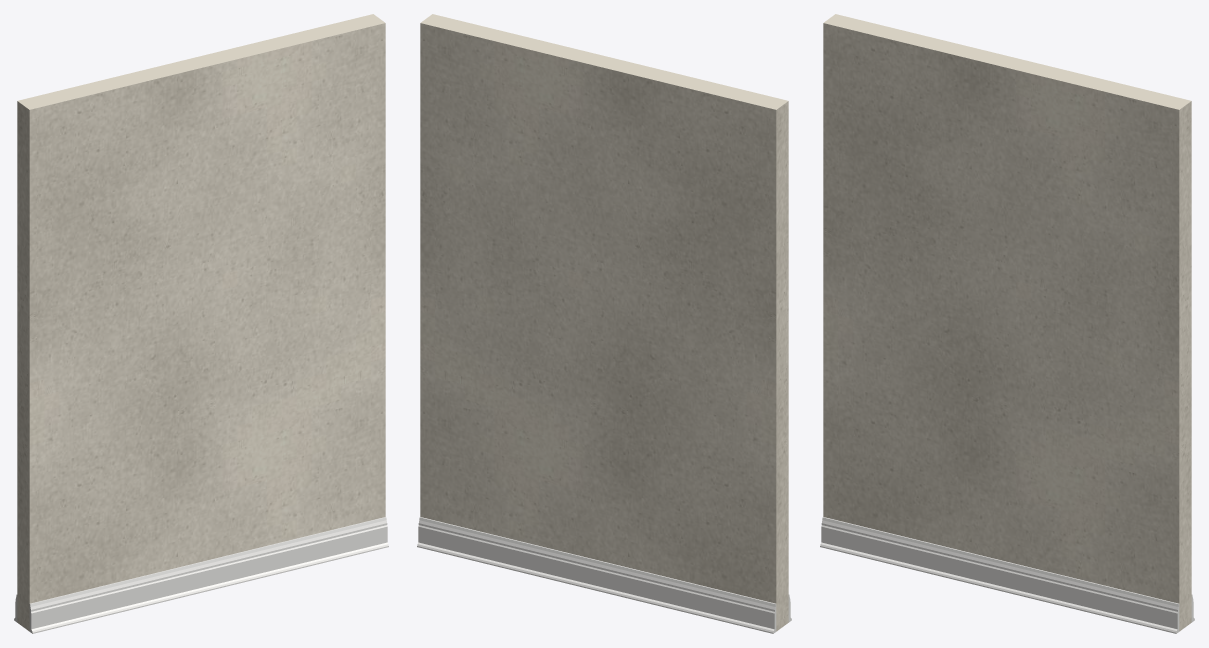
The model's file is interior_wall_plain.glb.
3 views of the same model, side by side, from view 1: azimuth 30°, elevation 25°; view 2: azimuth 150°, elevation 25°; view 3: azimuth 330°, elevation 25° (orthographic).
Visible parts, largest first — view 1: interior_wall_plain_plaster, molduras; view 2: interior_wall_plain_plaster, molduras; view 3: interior_wall_plain_plaster, molduras.
Part boxes in pixels (<box>): interior_wall_plain_plaster: <box>17,14,385,631</box>; molduras: <box>14,517,388,633</box>; interior_wall_plain_plaster: <box>420,14,788,631</box>; molduras: <box>417,517,791,633</box>; interior_wall_plain_plaster: <box>823,14,1191,631</box>; molduras: <box>820,517,1194,633</box>.
Size of the model in its own units: 2 by 2.8 by 0.18.
2 materials, 1 textured.
